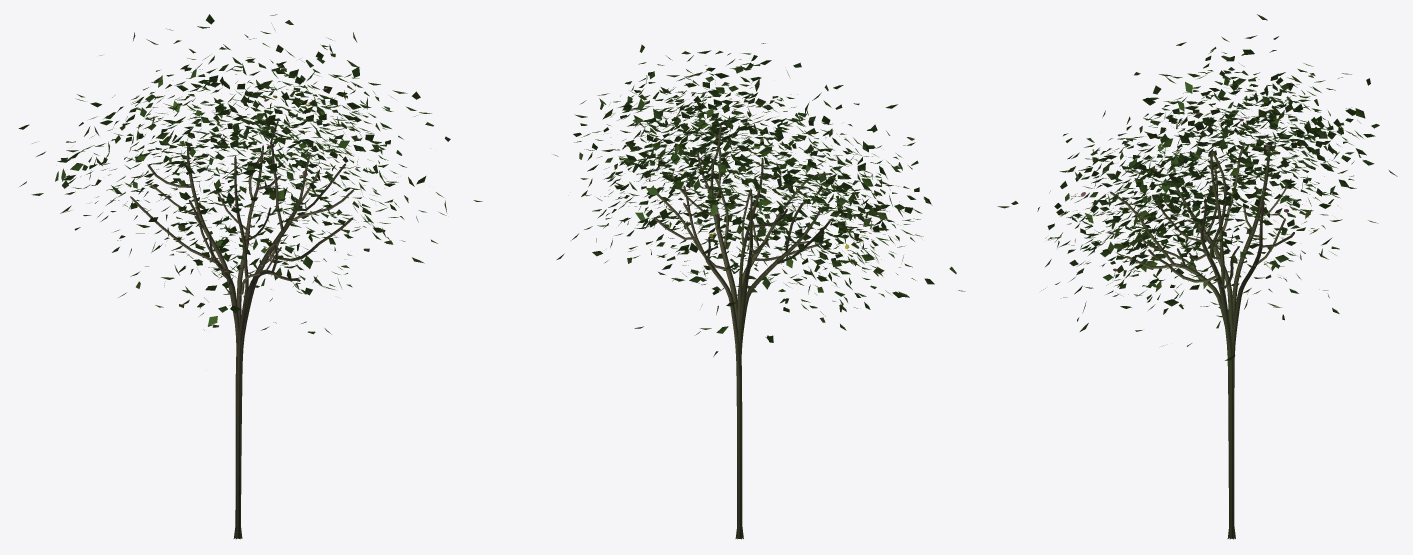
Rendered from SM_Tree_garden_shrub_2.glb.
The picture shows the model from 3 angles, left to right: view 1: azimuth 30°, elevation 25°; view 2: azimuth 150°, elevation 25°; view 3: azimuth 270°, elevation 25°; orthographic projection. The views are drawn at different scales.
Parts seen in each view (by area): view 1: SM_Tree_garden_shrub_2; view 2: SM_Tree_garden_shrub_2; view 3: SM_Tree_garden_shrub_2.
Boxes of the visible parts, bbox=[...] form: SM_Tree_garden_shrub_2: bbox=[18, 14, 482, 539]; SM_Tree_garden_shrub_2: bbox=[553, 43, 965, 539]; SM_Tree_garden_shrub_2: bbox=[997, 14, 1397, 539].
Bounding box in the file's own units: 2.46 × 3.05 × 2.26.
